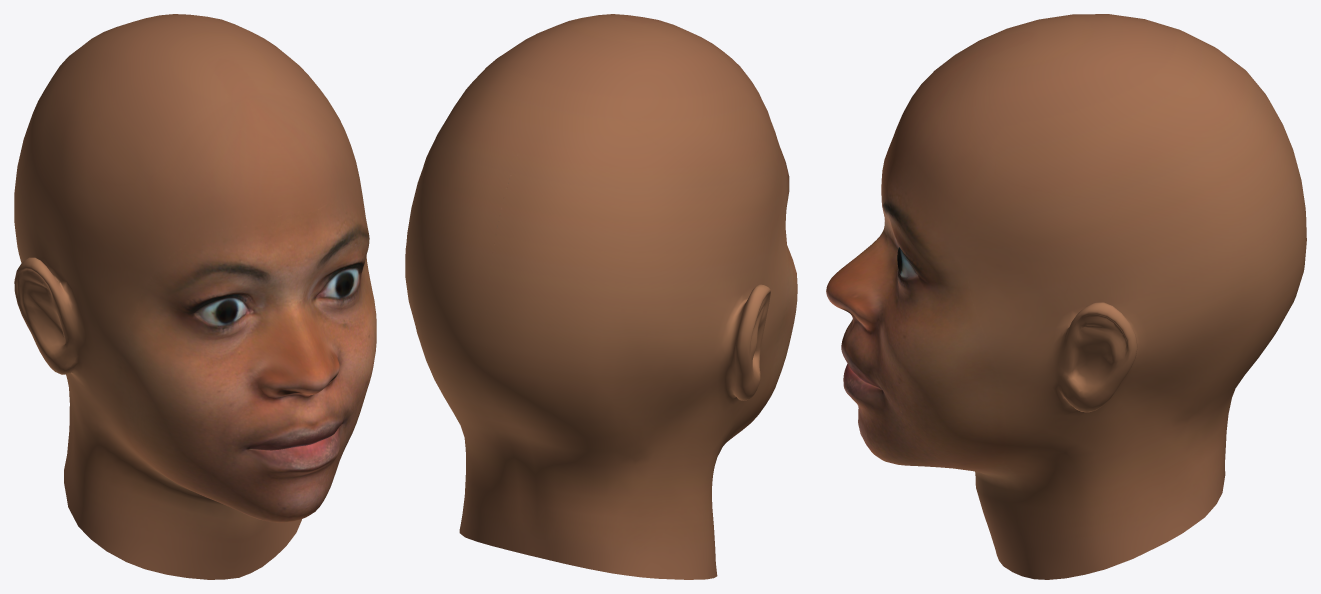
The model's file is v332_obj_ModifierEyesWide.obj.
3 renders of one model, left to right at view 1: azimuth 30°, elevation 25°; view 2: azimuth 150°, elevation 25°; view 3: azimuth 270°, elevation 25°, orthographic. The views are drawn at different scales.
Parts seen in each view (by area): view 1: HeadHires; view 2: HeadHires; view 3: HeadHires.
Boxes of the visible parts, x1,y1,x2,y2 form: HeadHires: [14, 14, 376, 579]; HeadHires: [405, 14, 797, 579]; HeadHires: [826, 14, 1306, 579].
Bounding box in the file's own units: 187 × 282 × 233.
